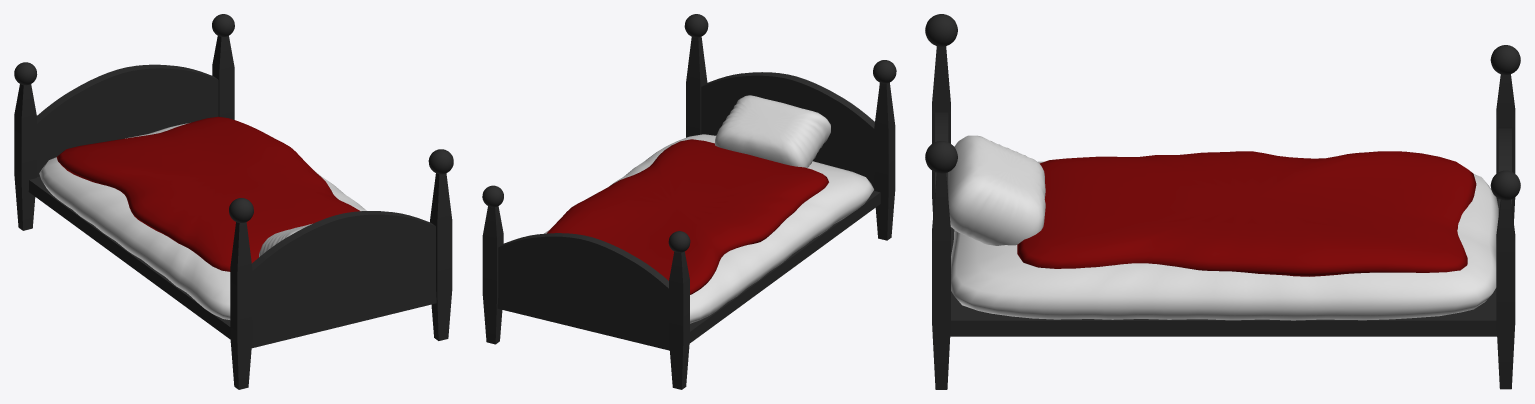
Rendered from Lit3_2.fbx.
3 views of the same model, side by side, from view 1: azimuth 30°, elevation 25°; view 2: azimuth 150°, elevation 25°; view 3: azimuth 270°, elevation 25° (orthographic). The views are drawn at different scales.
Visible parts, largest first — view 1: pCylinder245, pCube954, pCube959, pCylinder247, pCube955, pCube956, pCube957, pCube960, pCube958, pCylinder246; view 2: pCylinder245, pCube959, pCylinder247, pCube954, pCylinder246, pCube955, pCube957, pCube960, pCube958, pCube956; view 3: pCylinder245, pCylinder247, pCube960, pCylinder246, pCube956, pCube958, pCube955, pCube957, pCube959.
Part boxes in pixels (box(x1,y1,x2,y2)): pCylinder245: box(56, 116, 360, 271); pCube954: box(251, 211, 436, 348); pCube959: box(37, 64, 218, 176); pCylinder247: box(39, 123, 366, 319); pCube955: box(229, 198, 253, 389); pCube956: box(428, 149, 453, 340); pCube957: box(14, 62, 37, 230); pCube960: box(28, 176, 230, 339); pCube958: box(212, 14, 234, 119); pCylinder246: box(259, 223, 312, 256); pCylinder245: box(547, 139, 828, 294); pCube959: box(497, 233, 669, 350); pCylinder247: box(544, 134, 873, 323); pCube954: box(701, 72, 874, 189); pCylinder246: box(715, 95, 830, 167); pCube955: box(873, 60, 896, 240); pCube957: box(668, 231, 690, 389); pCube960: box(689, 190, 880, 343); pCube958: box(482, 185, 503, 344); pCube956: box(684, 14, 708, 137); pCylinder245: box(1017, 151, 1476, 276); pCylinder247: box(951, 161, 1498, 320); pCube960: box(950, 199, 1498, 336); pCylinder246: box(948, 135, 1045, 245); pCube956: box(925, 141, 957, 389); pCube958: box(1490, 170, 1520, 389); pCube955: box(925, 14, 957, 215); pCube957: box(1490, 45, 1520, 222); pCube959: box(1498, 128, 1511, 214).
Size of the model in its own units: 82.19 by 66.59 by 147.
